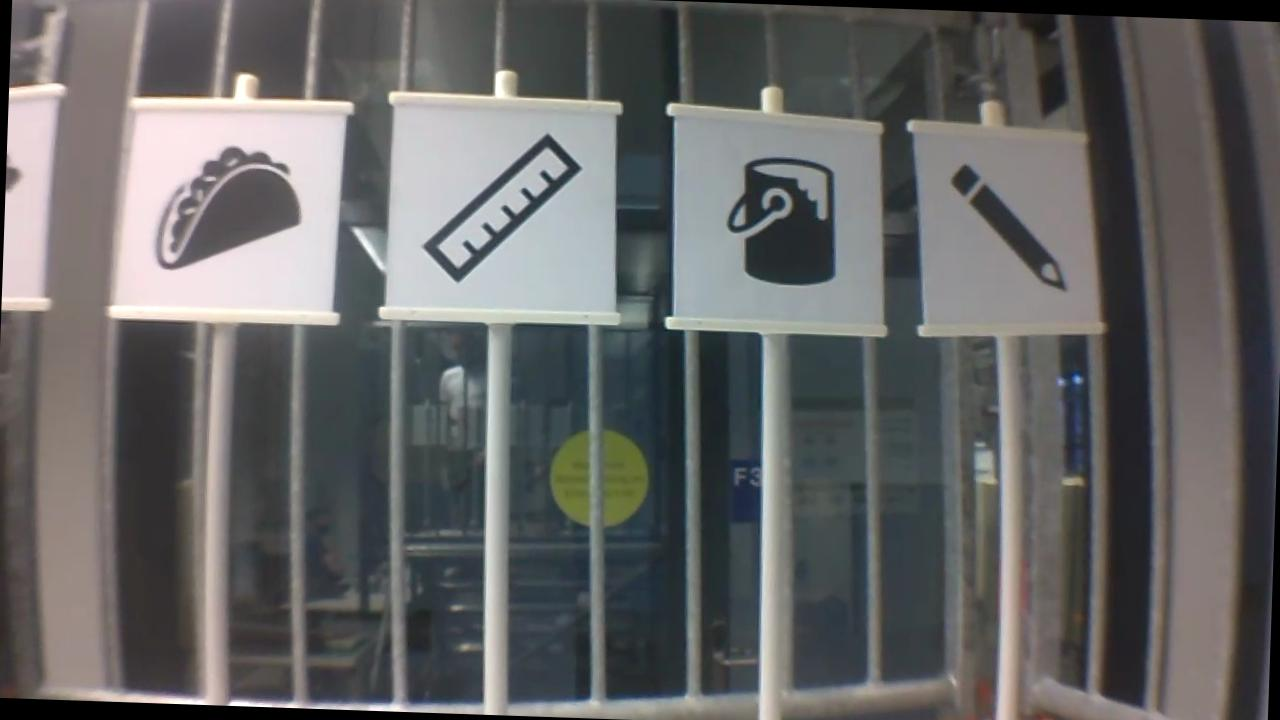bucket: (720, 151, 844, 288)
pencil: (938, 158, 1074, 293)
ruler: (414, 122, 589, 294)
taco: (150, 135, 306, 279)
